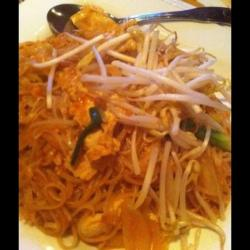bolonese_pasta: (20, 44, 211, 227)
